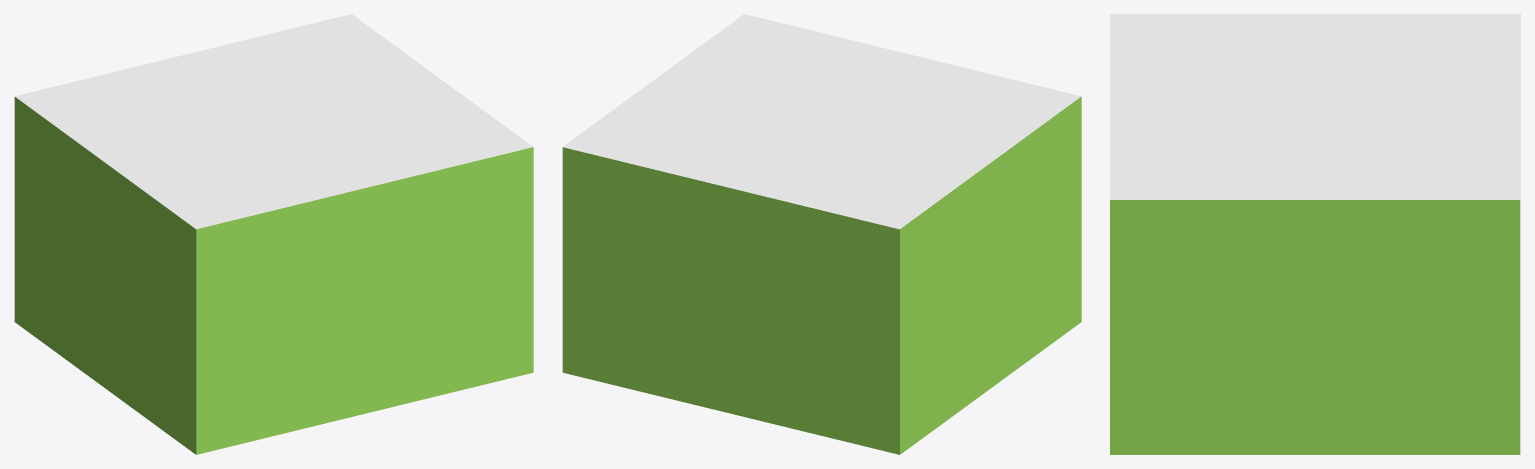
The model's file is ibangsagot3.fbx.
3 views of the same model, side by side, from view 1: azimuth 30°, elevation 25°; view 2: azimuth 150°, elevation 25°; view 3: azimuth 270°, elevation 25° (orthographic). The views are drawn at different scales.
Parts seen in each view (by area): view 1: Model; view 2: Model; view 3: Model.
Part boxes in pixels (x1,y1,x2,y2): Model: [14, 14, 533, 454]; Model: [562, 14, 1081, 454]; Model: [1110, 14, 1520, 454].
Size of the model in its own units: 13.48 by 8.62 by 12.59.
